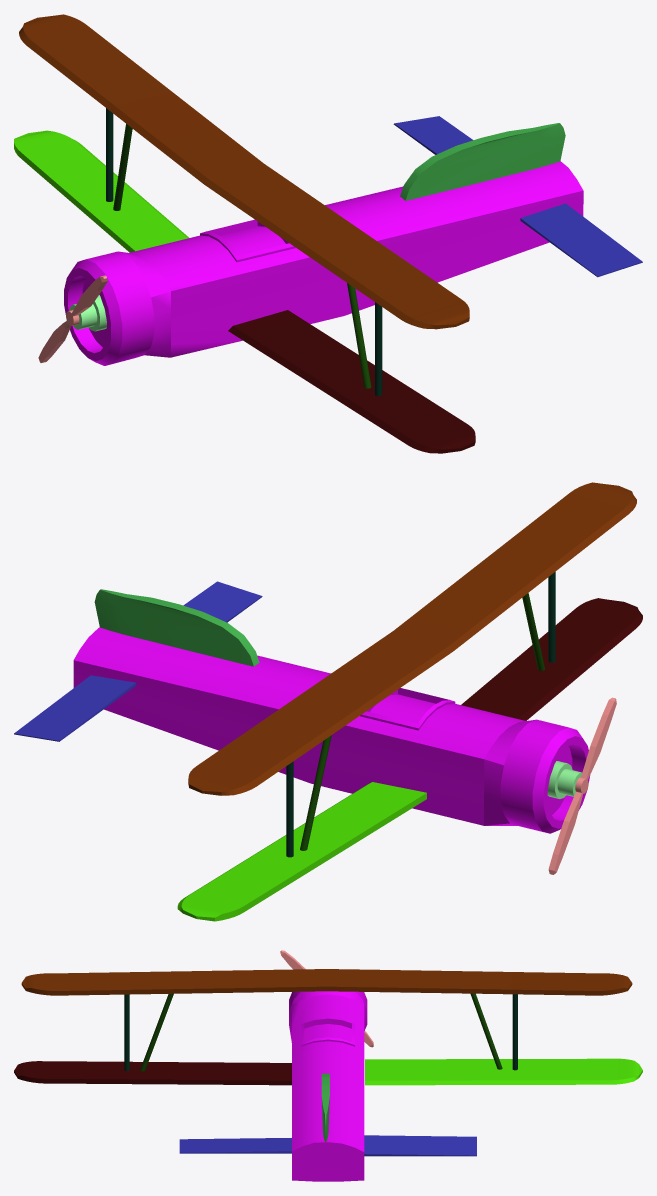
3 renders of one model, top to bottom at view 1: azimuth 30°, elevation 25°; view 2: azimuth 150°, elevation 25°; view 3: azimuth 270°, elevation 25°, orthographic. The views are drawn at different scales.
Visible parts, largest first — view 1: Cylinder001, Box003, Box001, Box002, Box006, Box004, Box005, Object, Cylinder003, Cylinder006, Cylinder002, Cylinder004 (+1 smaller); view 2: Cylinder001, Box003, Box002, Box001, Box006, Box005, Object, Box004, Cylinder006, Cylinder005, Cylinder004, Cylinder002; view 3: Box003, Cylinder001, Box002, Box001, Box005, Box004, Box006, Cylinder003, Cylinder005, Cylinder002, Cylinder004.
Boxes of the visible parts, x1=… form: Cylinder001: x1=64, y1=161, x2=583, y2=365; Box003: x1=19, y1=14, x2=469, y2=329; Box001: x1=228, y1=310, x2=475, y2=453; Box002: x1=14, y1=130, x2=188, y2=252; Box006: x1=400, y1=123, x2=565, y2=200; Box004: x1=520, y1=203, x2=642, y2=277; Box005: x1=393, y1=116, x2=473, y2=154; Object: x1=38, y1=275, x2=107, y2=362; Cylinder003: x1=347, y1=283, x2=371, y2=388; Cylinder006: x1=69, y1=295, x2=106, y2=331; Cylinder002: x1=375, y1=302, x2=382, y2=395; Cylinder004: x1=106, y1=108, x2=113, y2=201; Cylinder001: x1=73, y1=627, x2=590, y2=833; Box003: x1=188, y1=482, x2=636, y2=795; Box002: x1=177, y1=782, x2=426, y2=921; Box001: x1=461, y1=598, x2=642, y2=720; Box006: x1=94, y1=589, x2=259, y2=666; Box005: x1=14, y1=675, x2=136, y2=741; Object: x1=548, y1=697, x2=616, y2=874; Box004: x1=183, y1=581, x2=262, y2=622; Cylinder006: x1=547, y1=761, x2=581, y2=798; Cylinder005: x1=300, y1=735, x2=331, y2=850; Cylinder004: x1=286, y1=761, x2=293, y2=857; Cylinder002: x1=548, y1=572, x2=555, y2=662; Box003: x1=21, y1=969, x2=632, y2=995; Cylinder001: x1=289, y1=991, x2=367, y2=1181; Box002: x1=365, y1=1058, x2=642, y2=1085; Box001: x1=14, y1=1061, x2=291, y2=1085; Box005: x1=364, y1=1135, x2=476, y2=1156; Box004: x1=179, y1=1138, x2=291, y2=1153; Box006: x1=321, y1=1073, x2=329, y2=1141; Cylinder003: x1=140, y1=993, x2=173, y2=1071; Cylinder005: x1=470, y1=993, x2=502, y2=1069; Cylinder002: x1=124, y1=994, x2=129, y2=1070; Cylinder004: x1=512, y1=994, x2=517, y2=1070.
Bounding box in the file's own units: 723 × 246 × 1093.
